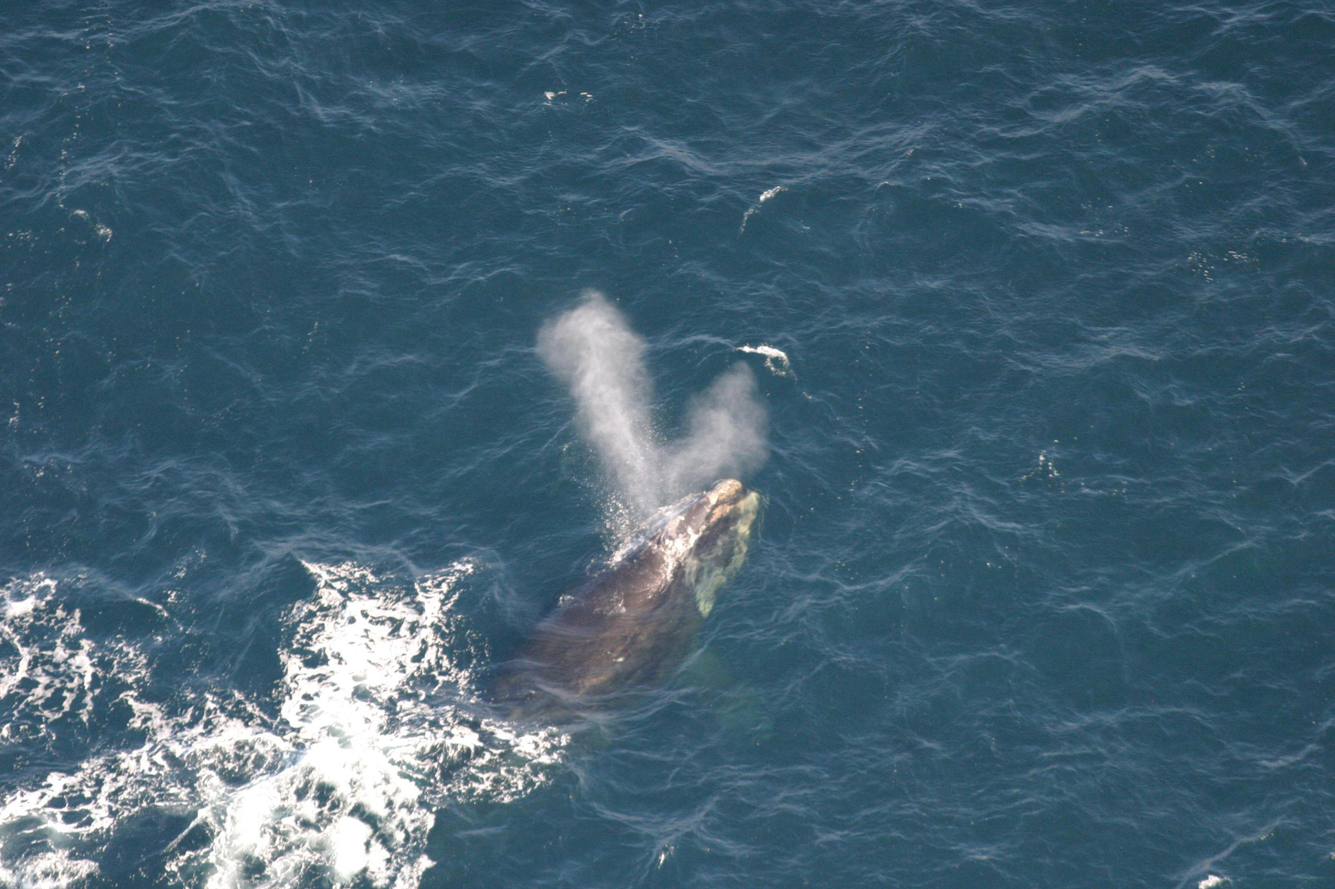whale: (390, 473, 772, 842)
